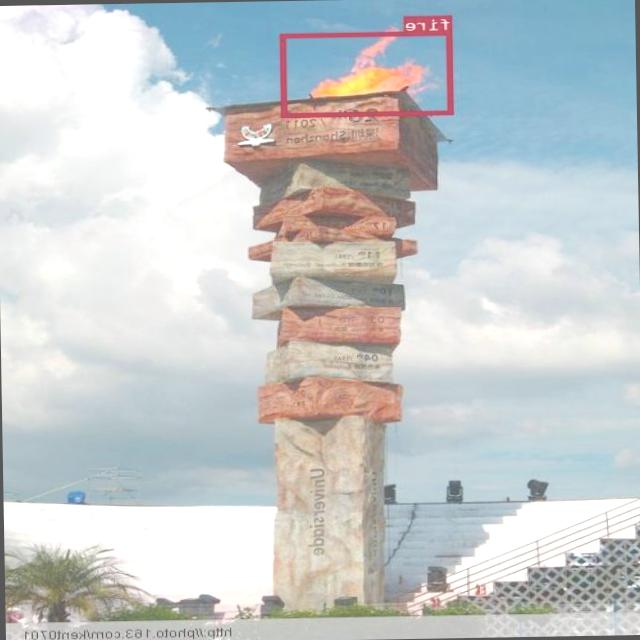fire: (281, 30, 453, 116)
